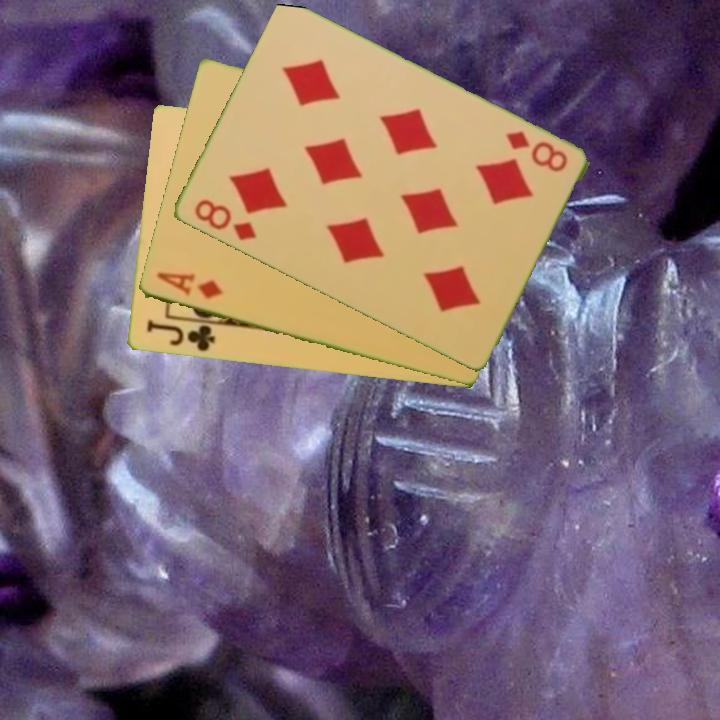8d: (501, 127, 570, 176), (190, 196, 259, 244)
Ad: (153, 269, 226, 302)
Jc: (142, 316, 217, 355)
